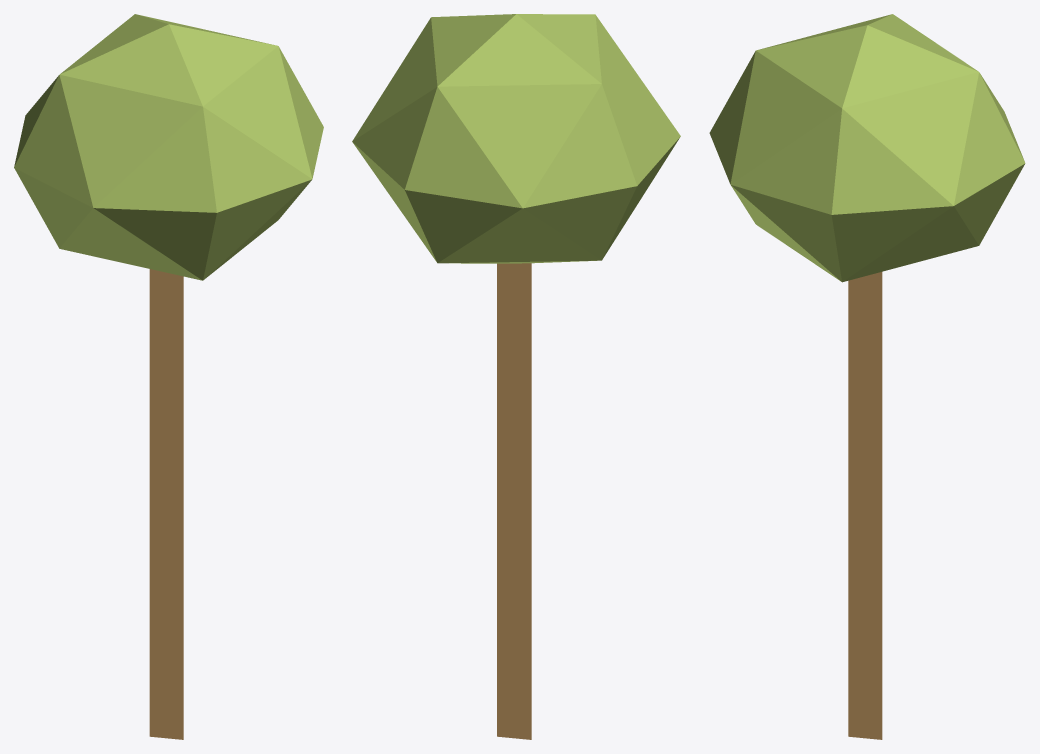
The model's file is bush_3.FBX.
3 renders of one model, left to right at view 1: azimuth 30°, elevation 25°; view 2: azimuth 150°, elevation 25°; view 3: azimuth 270°, elevation 25°, orthographic.
Parts seen in each view (by area): view 1: Cylinder050; view 2: Cylinder050; view 3: Cylinder050.
Boxes of the visible parts, bbox=[...] form: Cylinder050: bbox=[14, 14, 323, 739]; Cylinder050: bbox=[352, 14, 680, 739]; Cylinder050: bbox=[709, 14, 1025, 739].
Bounding box in the file's own units: 3.86 × 9.55 × 3.86.
Materials: 1 (1 with a texture image).
